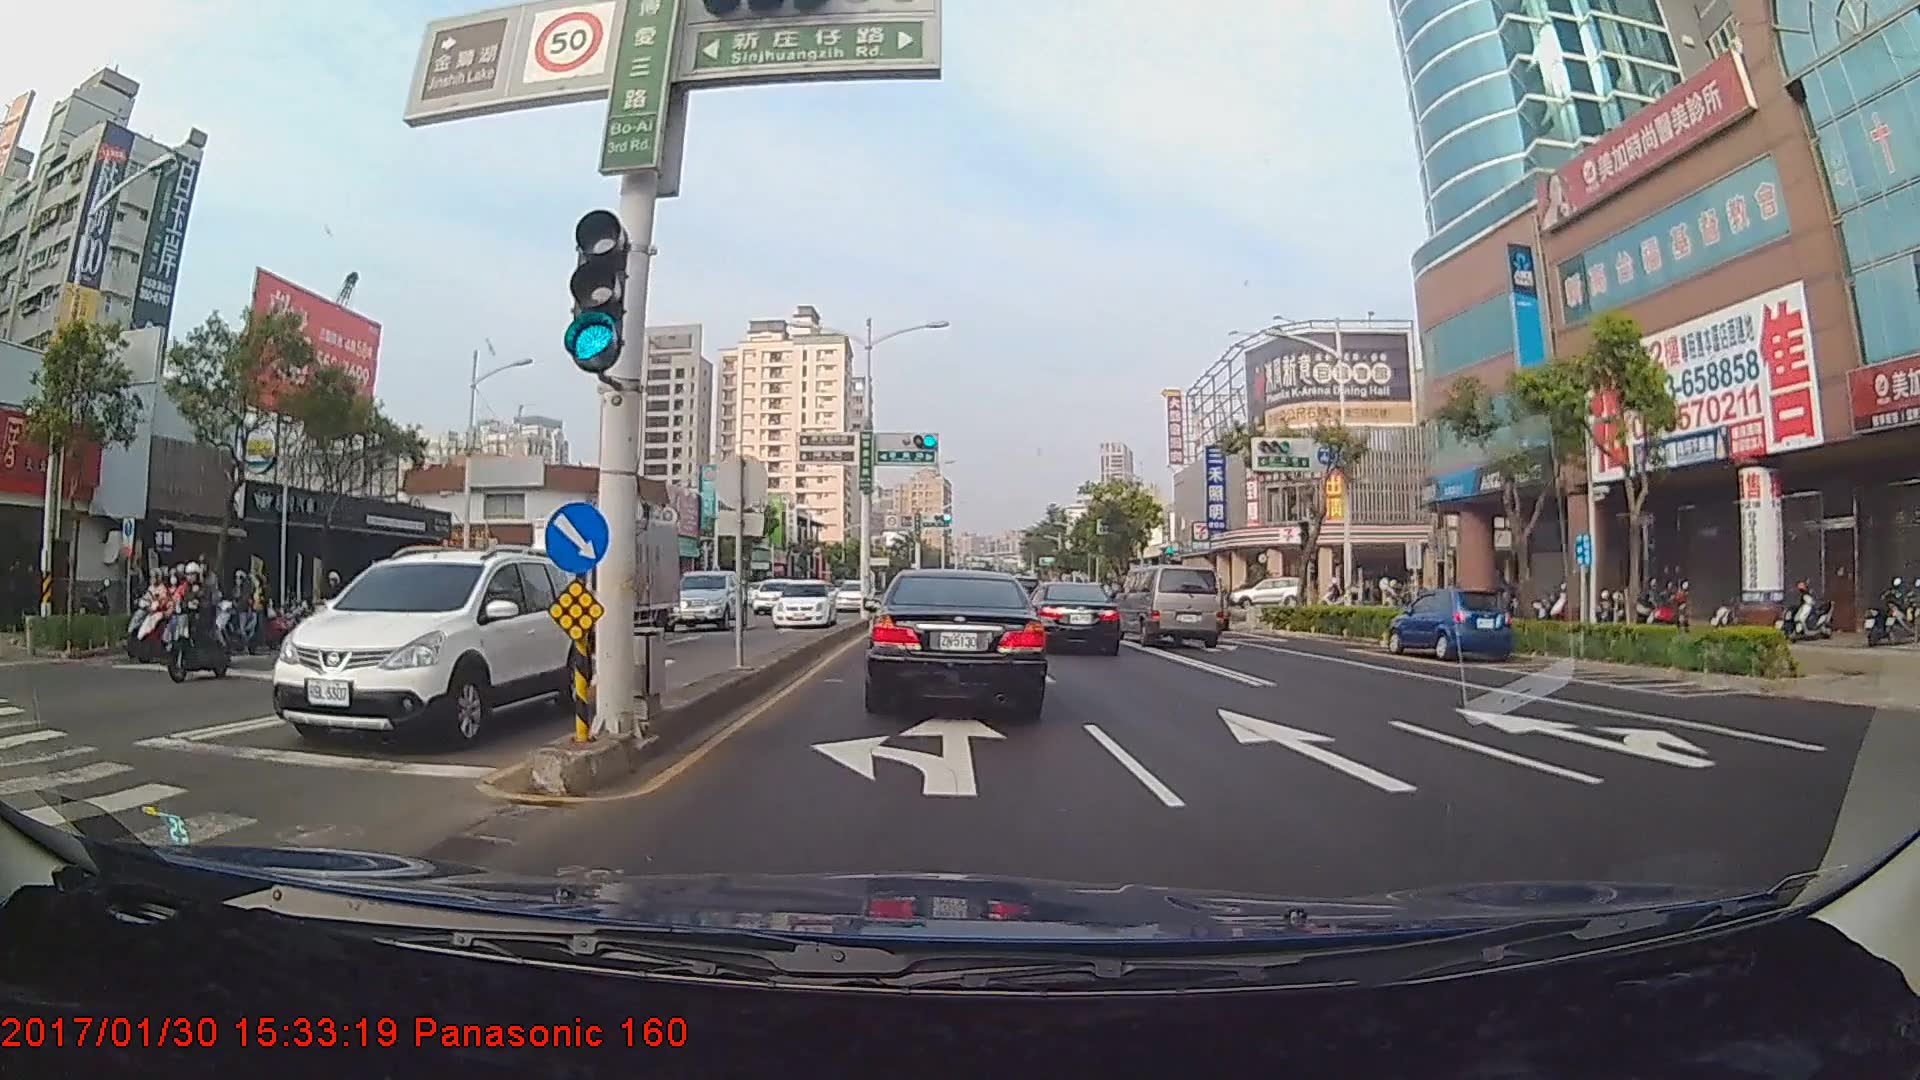rider: (132, 563, 216, 672), (161, 559, 244, 669), (164, 559, 234, 689)
vehicle: (282, 548, 574, 748), (867, 561, 1046, 718), (517, 511, 677, 656), (1387, 584, 1513, 661), (1115, 565, 1224, 649), (1027, 581, 1120, 655), (662, 566, 744, 633), (768, 574, 833, 629), (750, 578, 795, 612), (1238, 577, 1288, 606), (832, 576, 867, 614)
